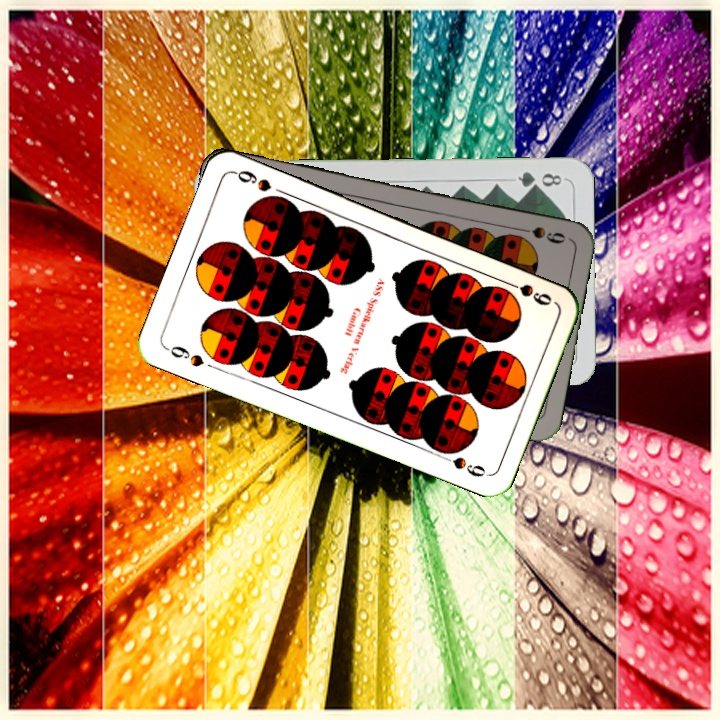G8: (514, 167, 565, 191)
S9: (499, 276, 555, 309), (510, 223, 569, 247), (161, 342, 207, 370)
